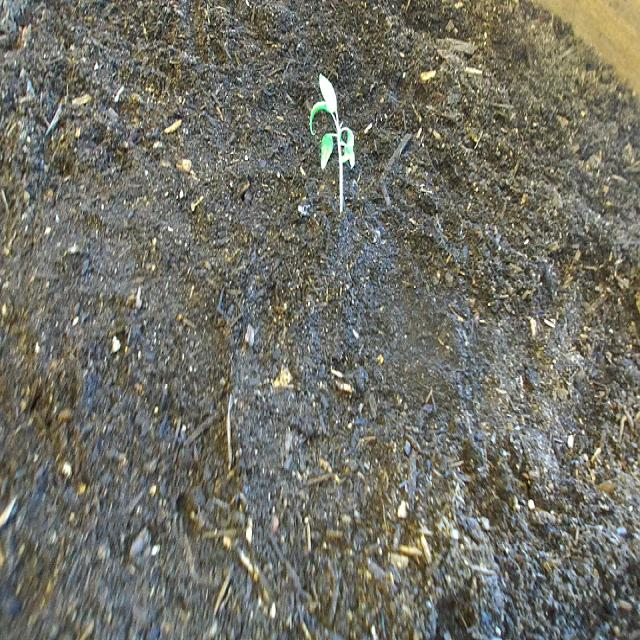Healthy: (299, 55, 369, 230)
